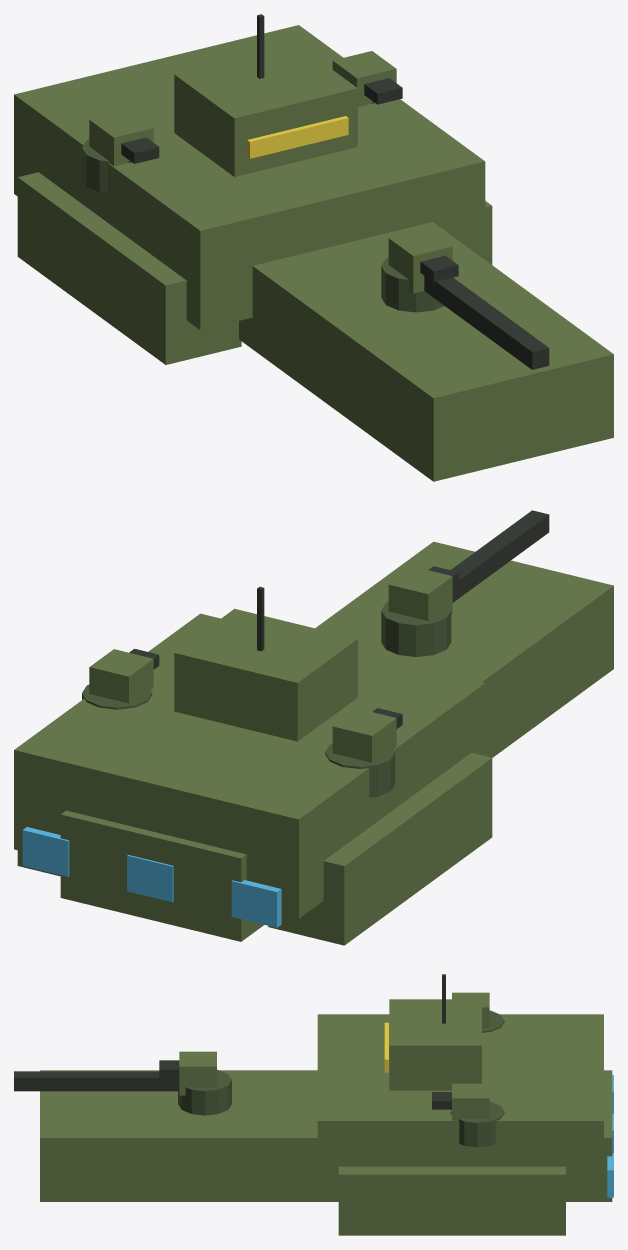
File: light_complete.obj
The picture shows the model from 3 angles, top to bottom: view 1: azimuth 30°, elevation 25°; view 2: azimuth 150°, elevation 25°; view 3: azimuth 270°, elevation 25°; orthographic projection. The views are drawn at different scales.
Bounding box in the file's own units: 1.72 × 1.3 × 3.57.
5 materials, 5 textured.
